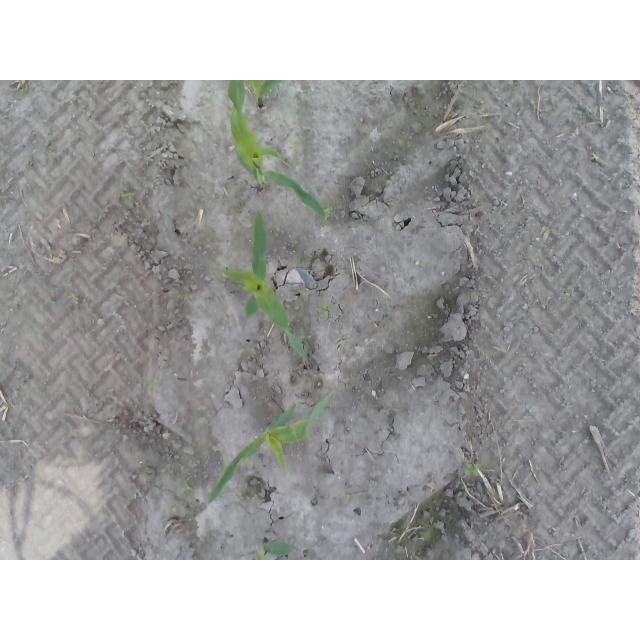Maize: (208, 211, 311, 370), (227, 80, 330, 222), (208, 393, 332, 504), (247, 82, 285, 111), (257, 536, 299, 561)
Weeds: (463, 460, 481, 480), (121, 184, 136, 204), (145, 376, 162, 392), (315, 303, 333, 317), (43, 142, 57, 158), (343, 493, 357, 508), (164, 503, 180, 515), (180, 483, 194, 496), (181, 292, 193, 304), (71, 294, 81, 307), (294, 138, 303, 151), (565, 290, 579, 298), (17, 476, 27, 486), (343, 304, 353, 313), (456, 491, 465, 500), (411, 553, 421, 560)
